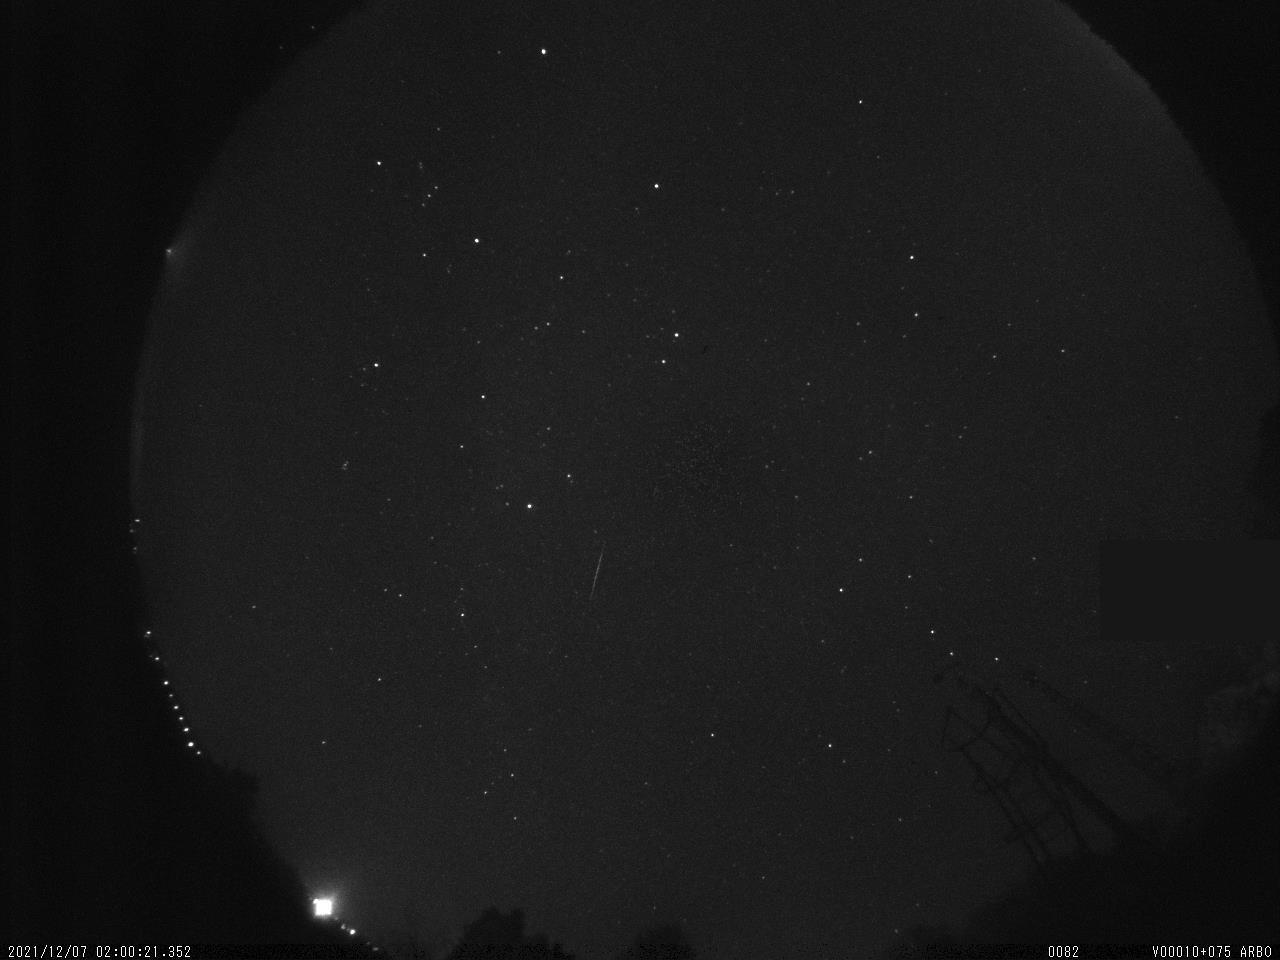meteor: (567, 542, 622, 612)
